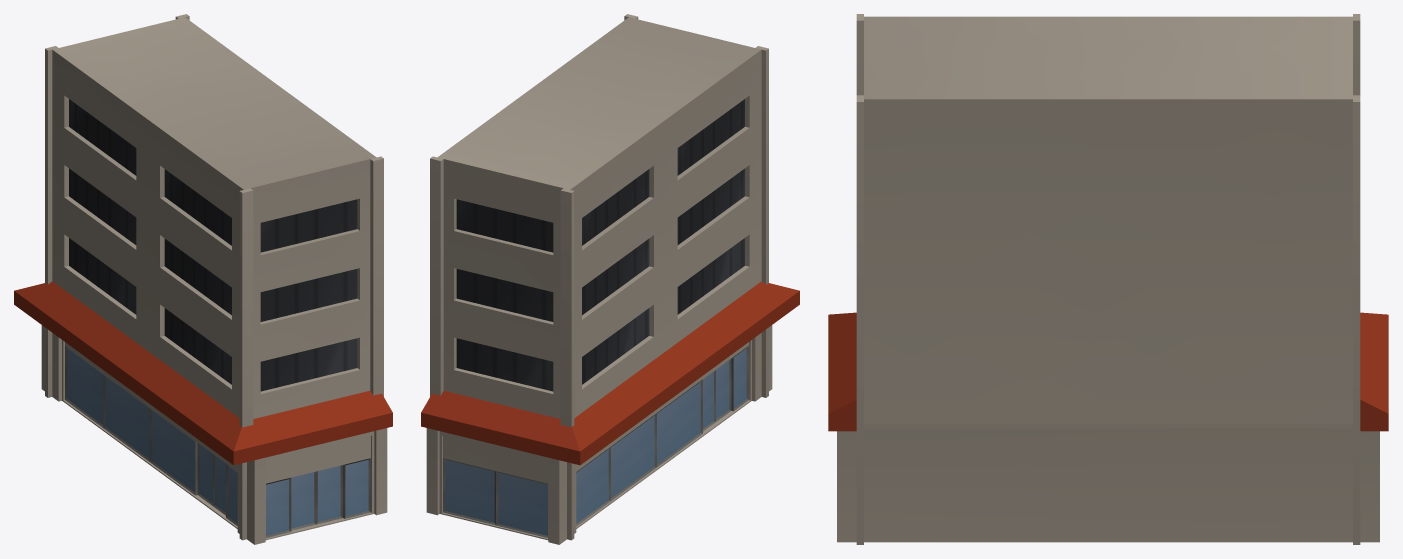
File: Bld_Building_I.fbx
The picture shows the model from 3 angles, left to right: view 1: azimuth 30°, elevation 25°; view 2: azimuth 150°, elevation 25°; view 3: azimuth 270°, elevation 25°; orthographic projection. The views are drawn at different scales.
Parts seen in each view (by area): view 1: Bld_Building_I; view 2: Bld_Building_I; view 3: Bld_Building_I.
Part boxes in pixels (bbox=[...]): Bld_Building_I: bbox=[14, 14, 392, 544]; Bld_Building_I: bbox=[421, 14, 799, 544]; Bld_Building_I: bbox=[828, 14, 1388, 544].
Bounding box in the file's own units: 730 × 1500 × 1719.
